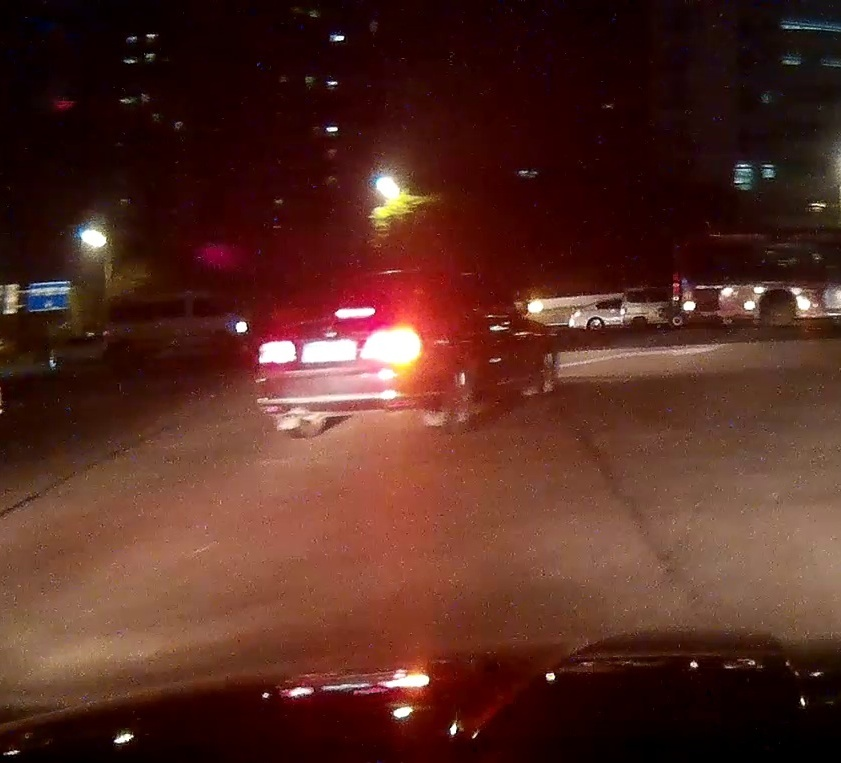L_light: (259, 340, 295, 363)
R_light: (363, 329, 421, 362)
T_light: (333, 307, 374, 318)
night-right: (259, 271, 430, 433)
